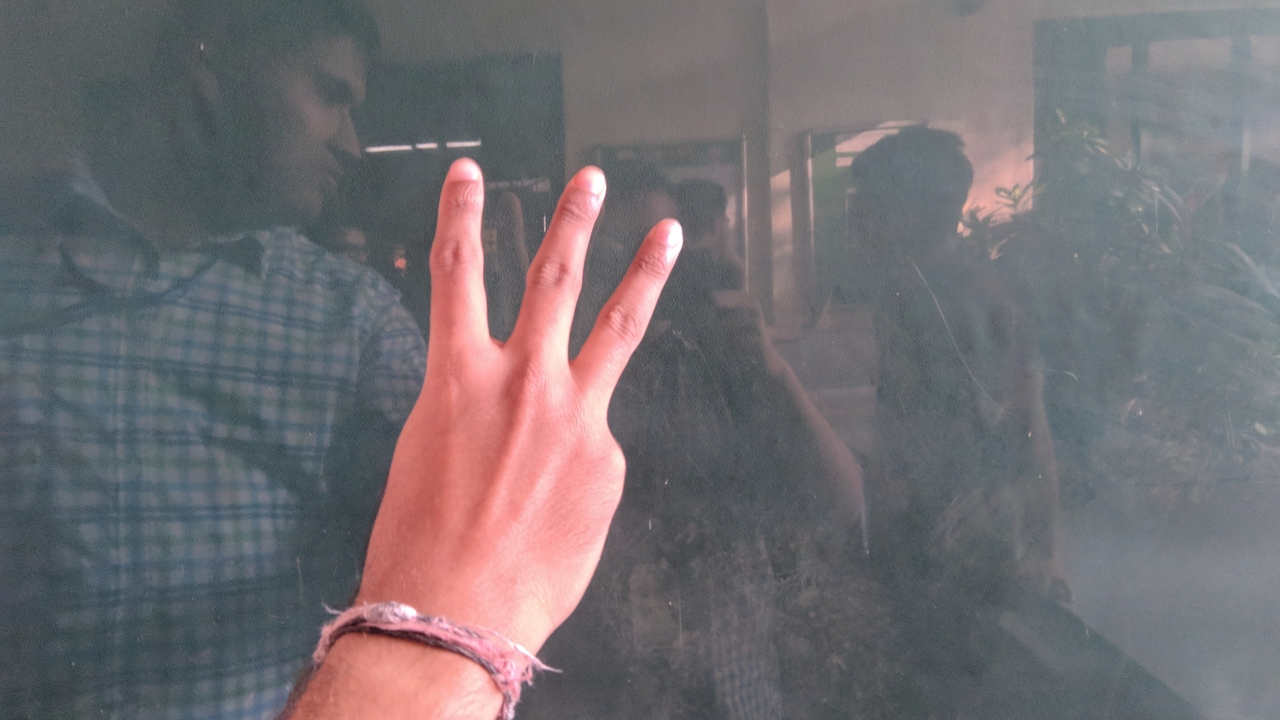fingertip: (552, 156, 612, 212), (630, 210, 688, 264), (430, 152, 484, 204)
